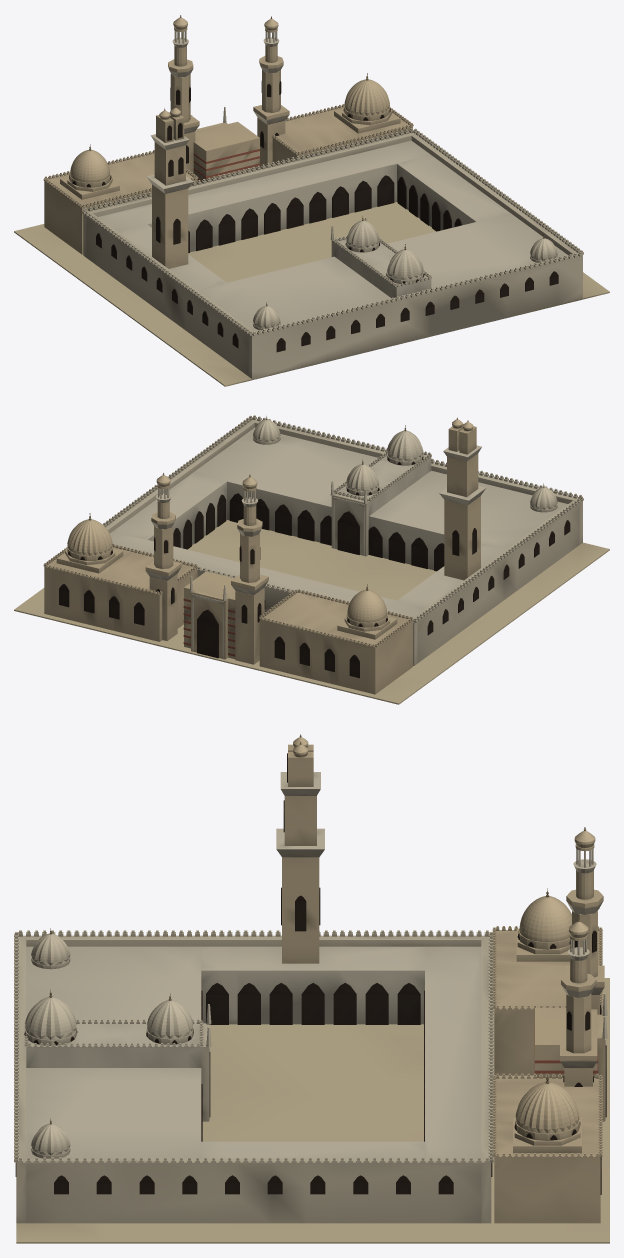
File: al-azhar-1600.glb
The picture shows the model from 3 angles, top to bottom: view 1: azimuth 30°, elevation 25°; view 2: azimuth 150°, elevation 25°; view 3: azimuth 270°, elevation 25°; orthographic projection. The views are drawn at different scales.
Parts seen in each view (by area): view 1: p0_walls, p1_arcades, p2_domes, p3_minarets; view 2: p2_domes, p0_walls, p1_arcades, p3_minarets; view 3: p0_walls, p1_arcades, p2_domes, p3_minarets.
Part boxes in pixels (bbox=[...]): p0_walls: bbox=[14, 128, 609, 386]; p1_arcades: bbox=[98, 140, 567, 331]; p2_domes: bbox=[43, 73, 557, 330]; p3_minarets: bbox=[146, 15, 289, 268]; p2_domes: bbox=[43, 416, 557, 694]; p0_walls: bbox=[14, 415, 609, 704]; p1_arcades: bbox=[110, 427, 567, 617]; p3_minarets: bbox=[145, 417, 485, 664]; p0_walls: bbox=[14, 930, 609, 1243]; p1_arcades: bbox=[26, 946, 481, 1158]; p2_domes: bbox=[24, 888, 607, 1223]; p3_minarets: bbox=[276, 734, 604, 1086].
Bounding box in the file's own units: 100 × 48.42 × 95.4.
